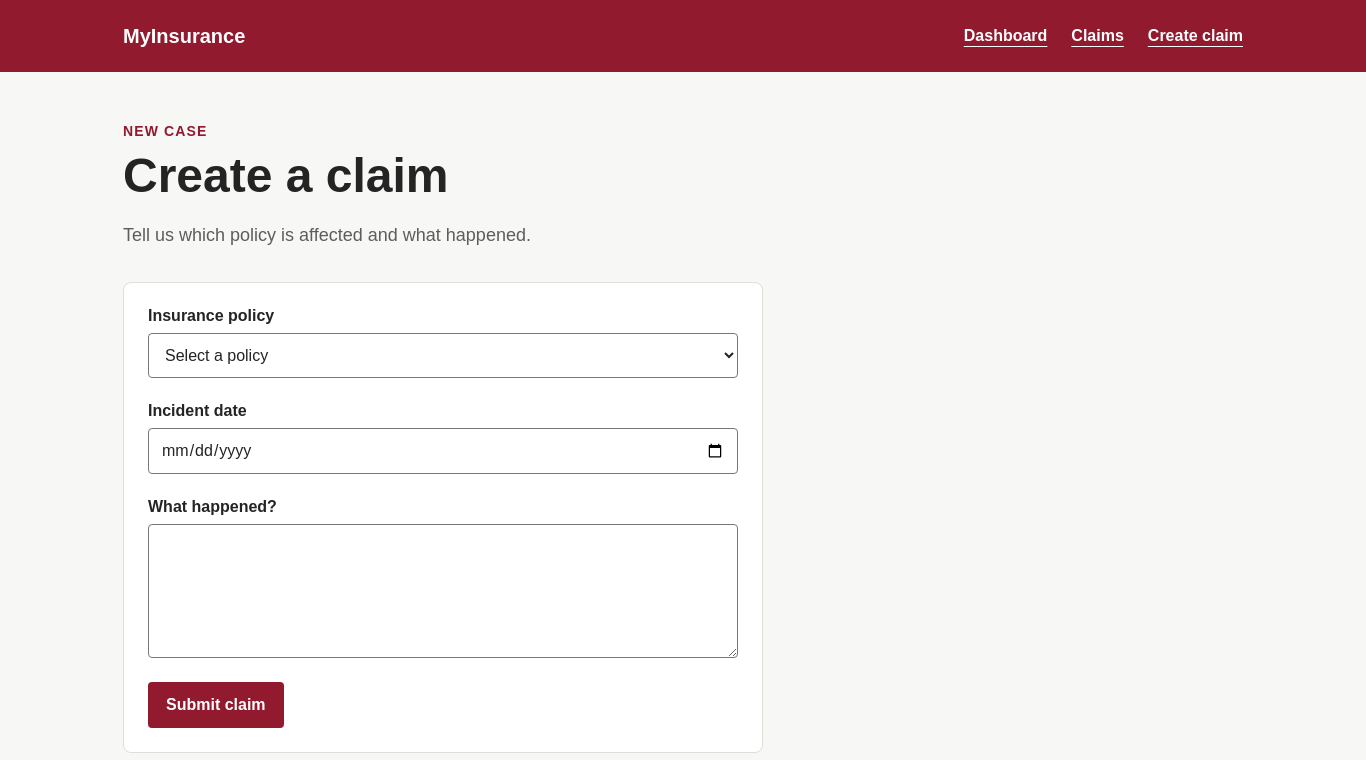
Test case: claim submission flow › shows a submitted claim in the claims list
Select "Home insurance (HOME-48291)" in the dropdown labelled "Insurance policy". click: (443,356)
box: [148,333,738,378]
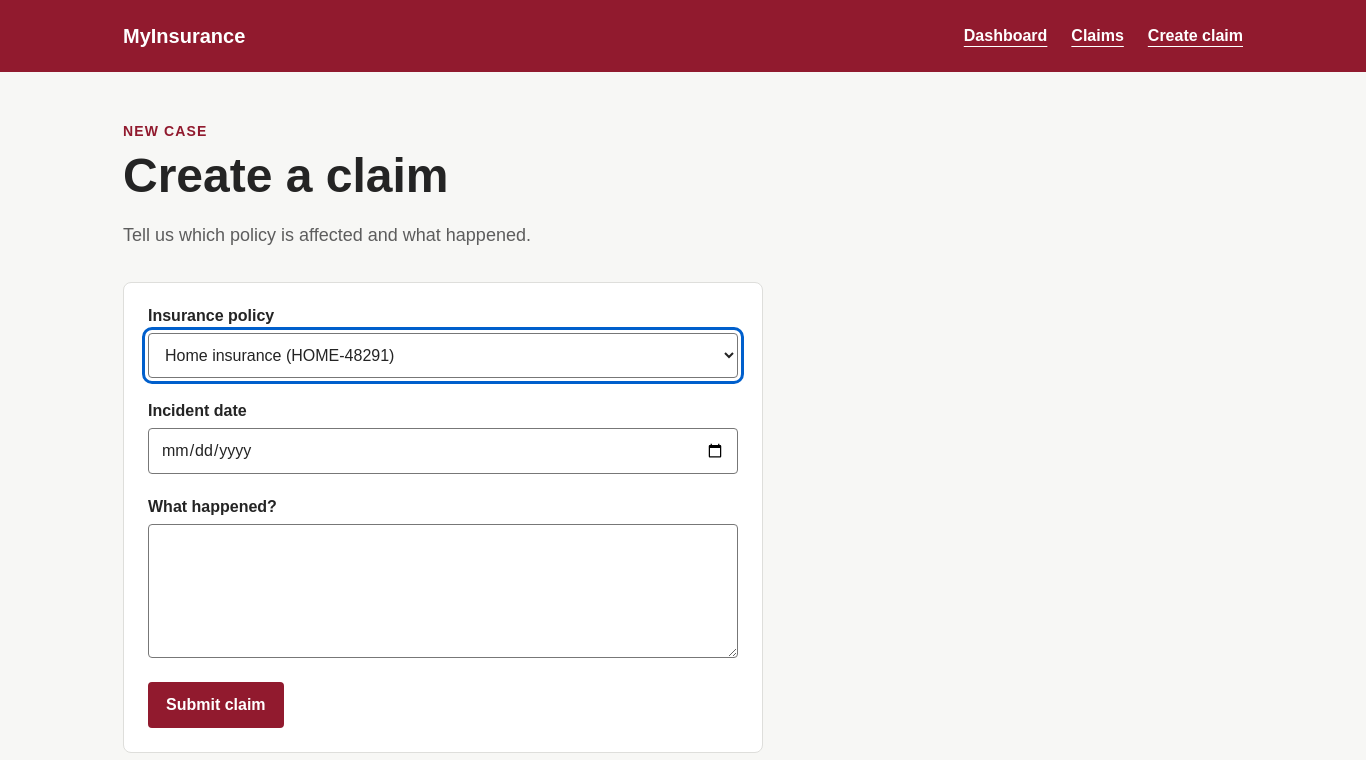
Type "2026-08-15" into the date field labelled "Incident date". click: (443,451)
box: [148,428,738,474]
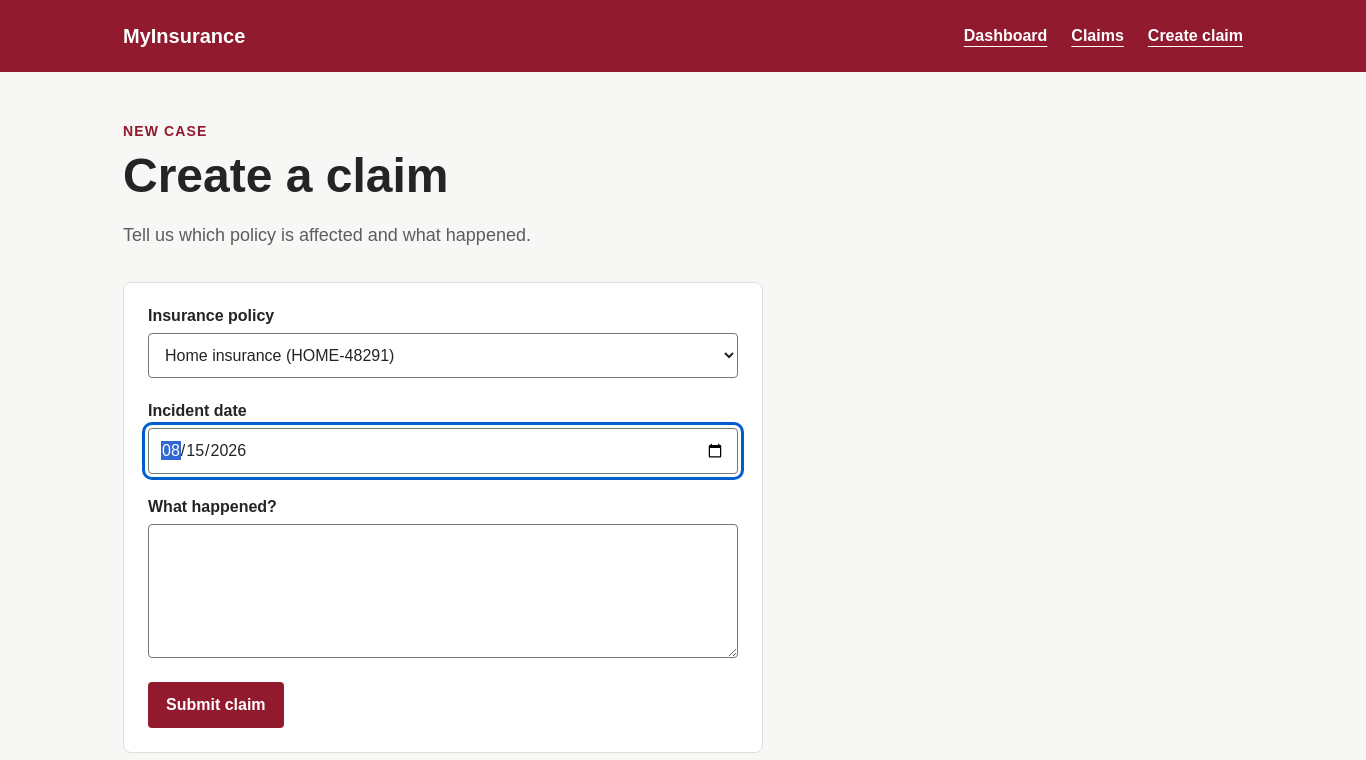
Type "A pipe leaked and damaged the bedroom floor." into the text box labelled "What happened?". click: (443,591)
box: [148,524,738,658]
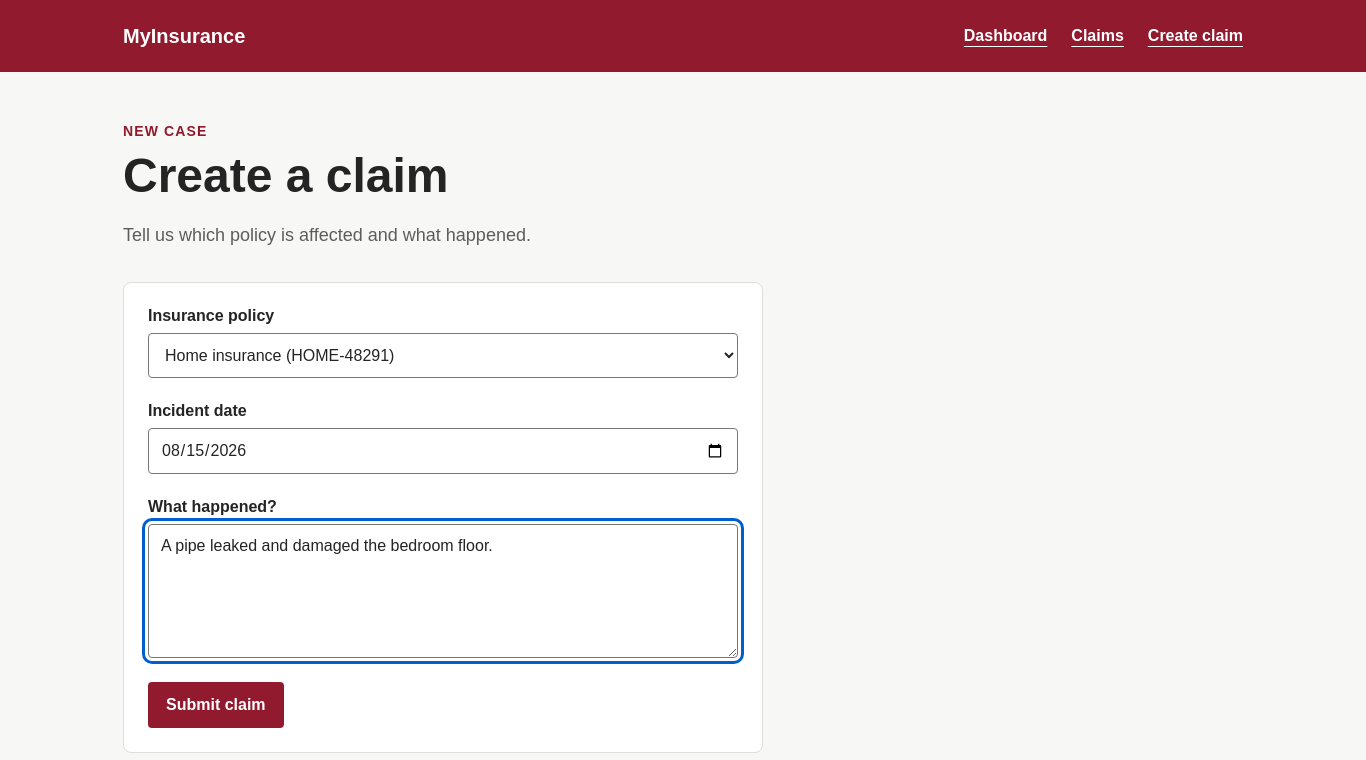
Click the button "Submit claim". click: (216,705)
box: [148,682,284,728]
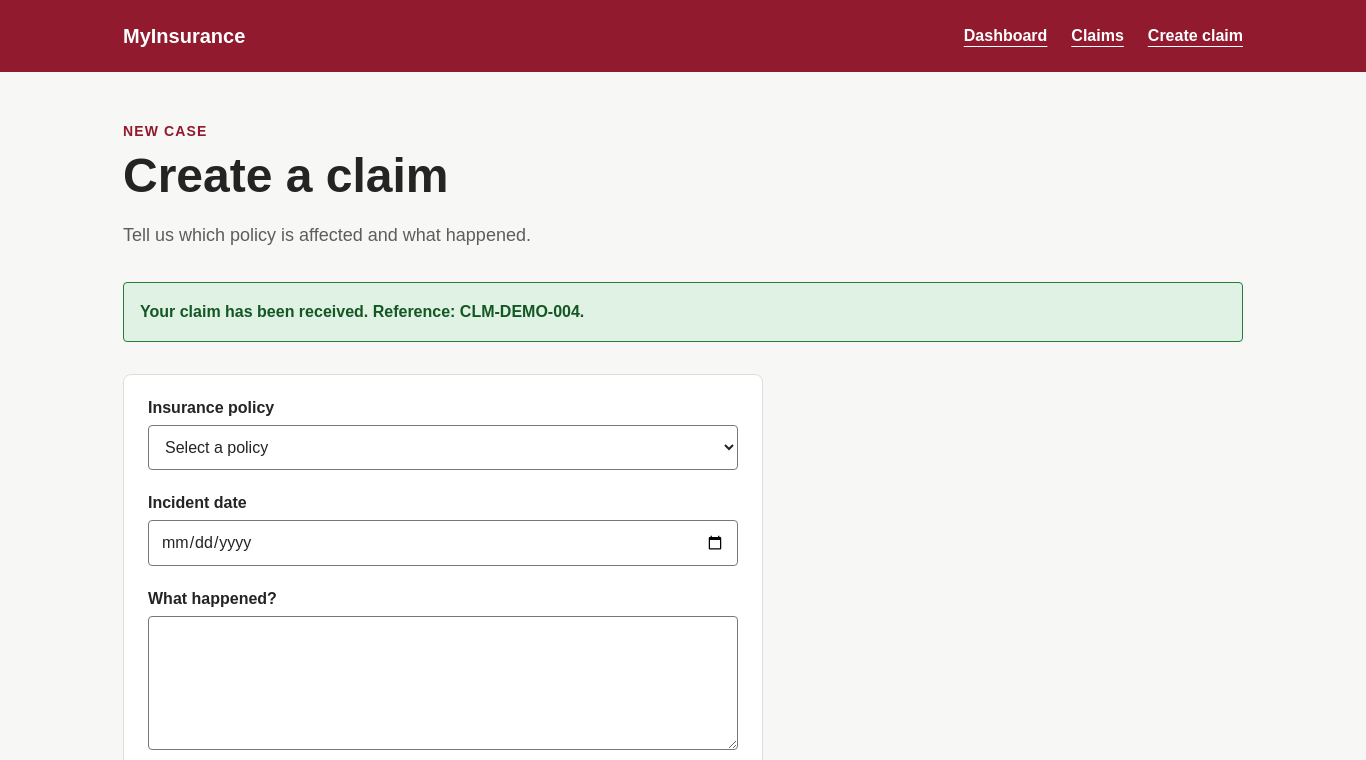
Click the link "Claims". click: (1098,36)
box: [1071,27,1124,44]
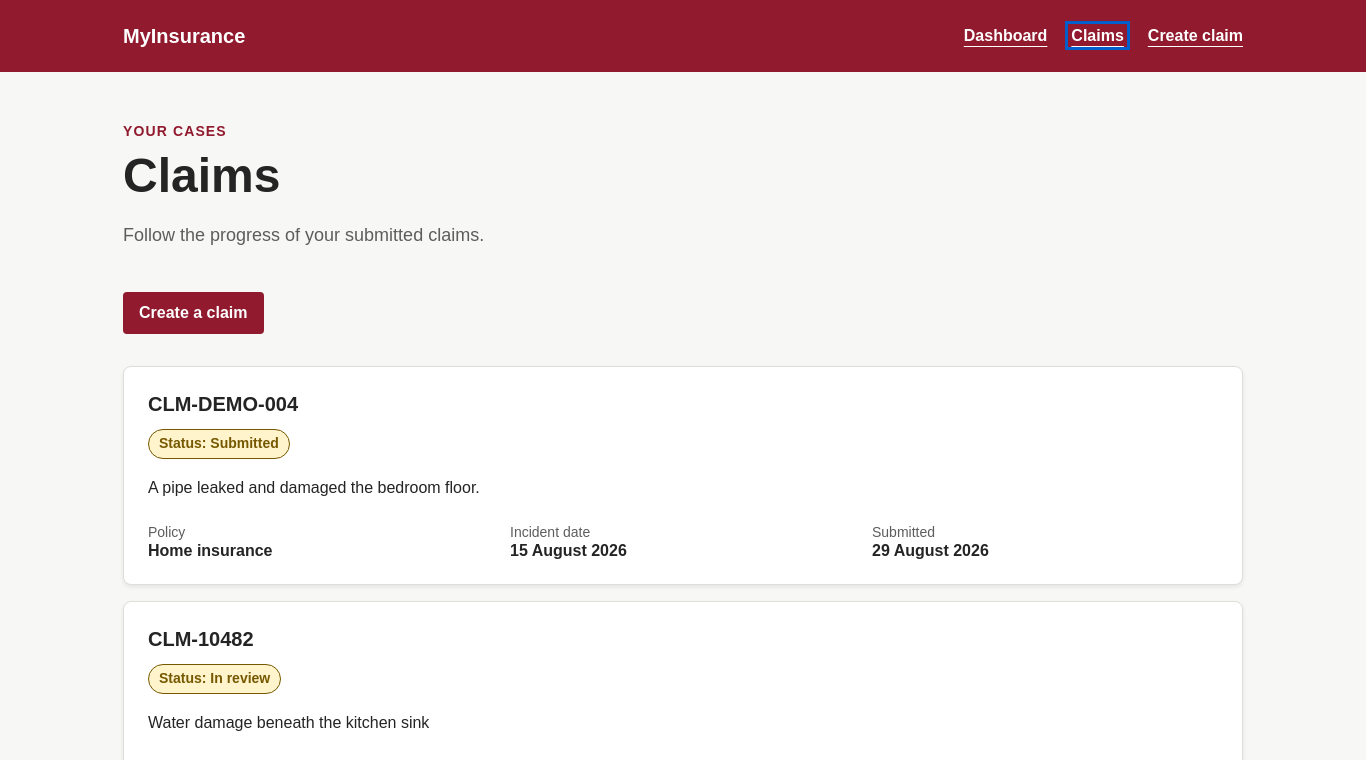
Check: the text "A pipe leaked and damaged the bedroom floor." is shown, box [148,479,480,496]
Check: the text "Status: Submitted" is shown, box [148,429,290,459]
